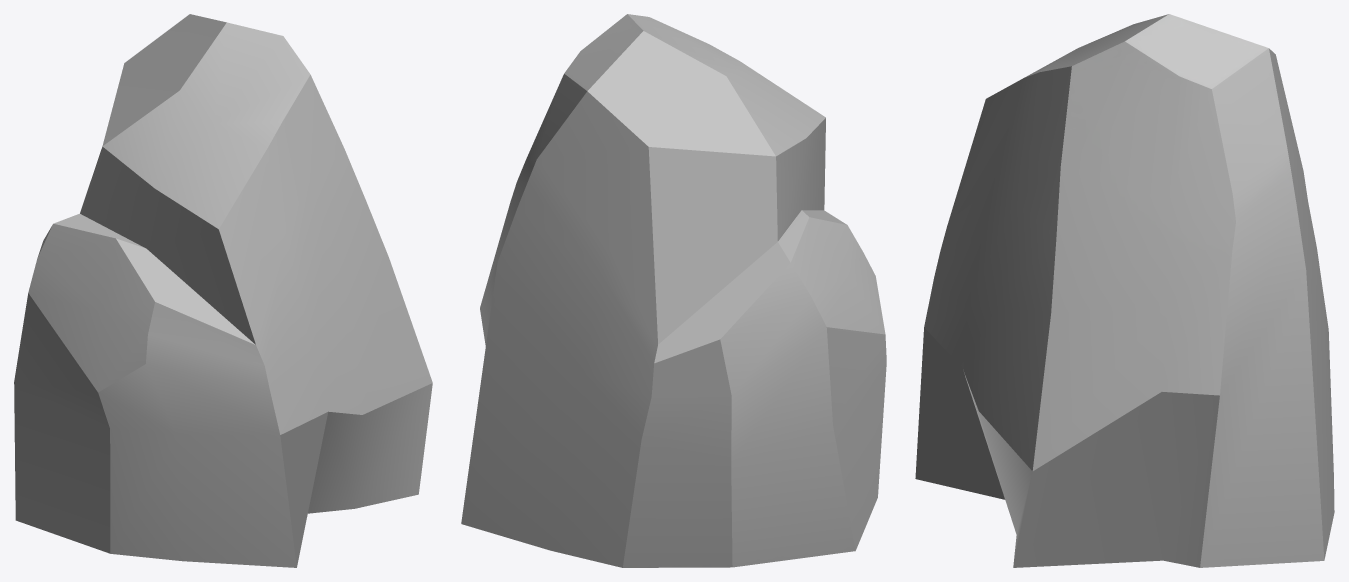
The model's file is rock.obj.
3 renders of one model, left to right at view 1: azimuth 30°, elevation 25°; view 2: azimuth 150°, elevation 25°; view 3: azimuth 270°, elevation 25°, orthographic. The views are drawn at different scales.
Parts seen in each view (by area): view 1: Rock; view 2: Rock; view 3: Rock.
Boxes of the visible parts, box(x1,y1,x2,y2) form: Rock: box(14, 14, 432, 567); Rock: box(461, 14, 886, 567); Rock: box(915, 14, 1334, 567).
Size of the model in its own units: 0.1549 by 0.1897 by 0.1467.
1 material, 1 textured.
